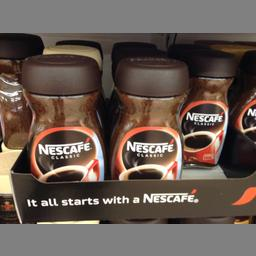coffee: (18, 52, 105, 180), (106, 54, 188, 178), (180, 47, 236, 166)
